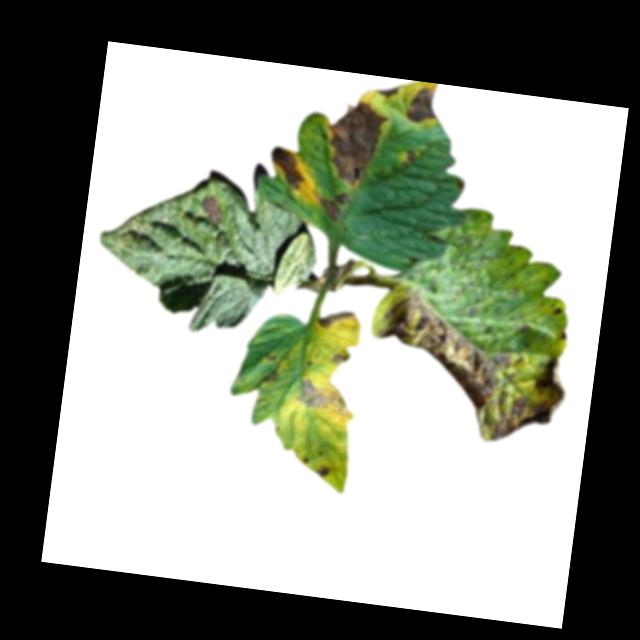Early_blight: (357, 279, 578, 452), (319, 94, 392, 192), (293, 374, 352, 414), (266, 145, 312, 191), (404, 84, 441, 126), (317, 189, 353, 222), (316, 304, 355, 331), (199, 190, 226, 223), (374, 81, 402, 98), (259, 366, 278, 386), (403, 147, 420, 167), (315, 460, 331, 479), (331, 349, 349, 365)
